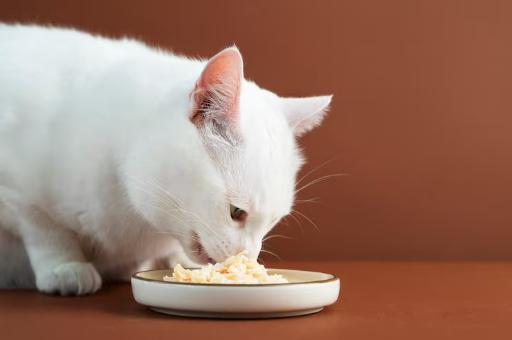cat_eating: (0, 24, 340, 318)
